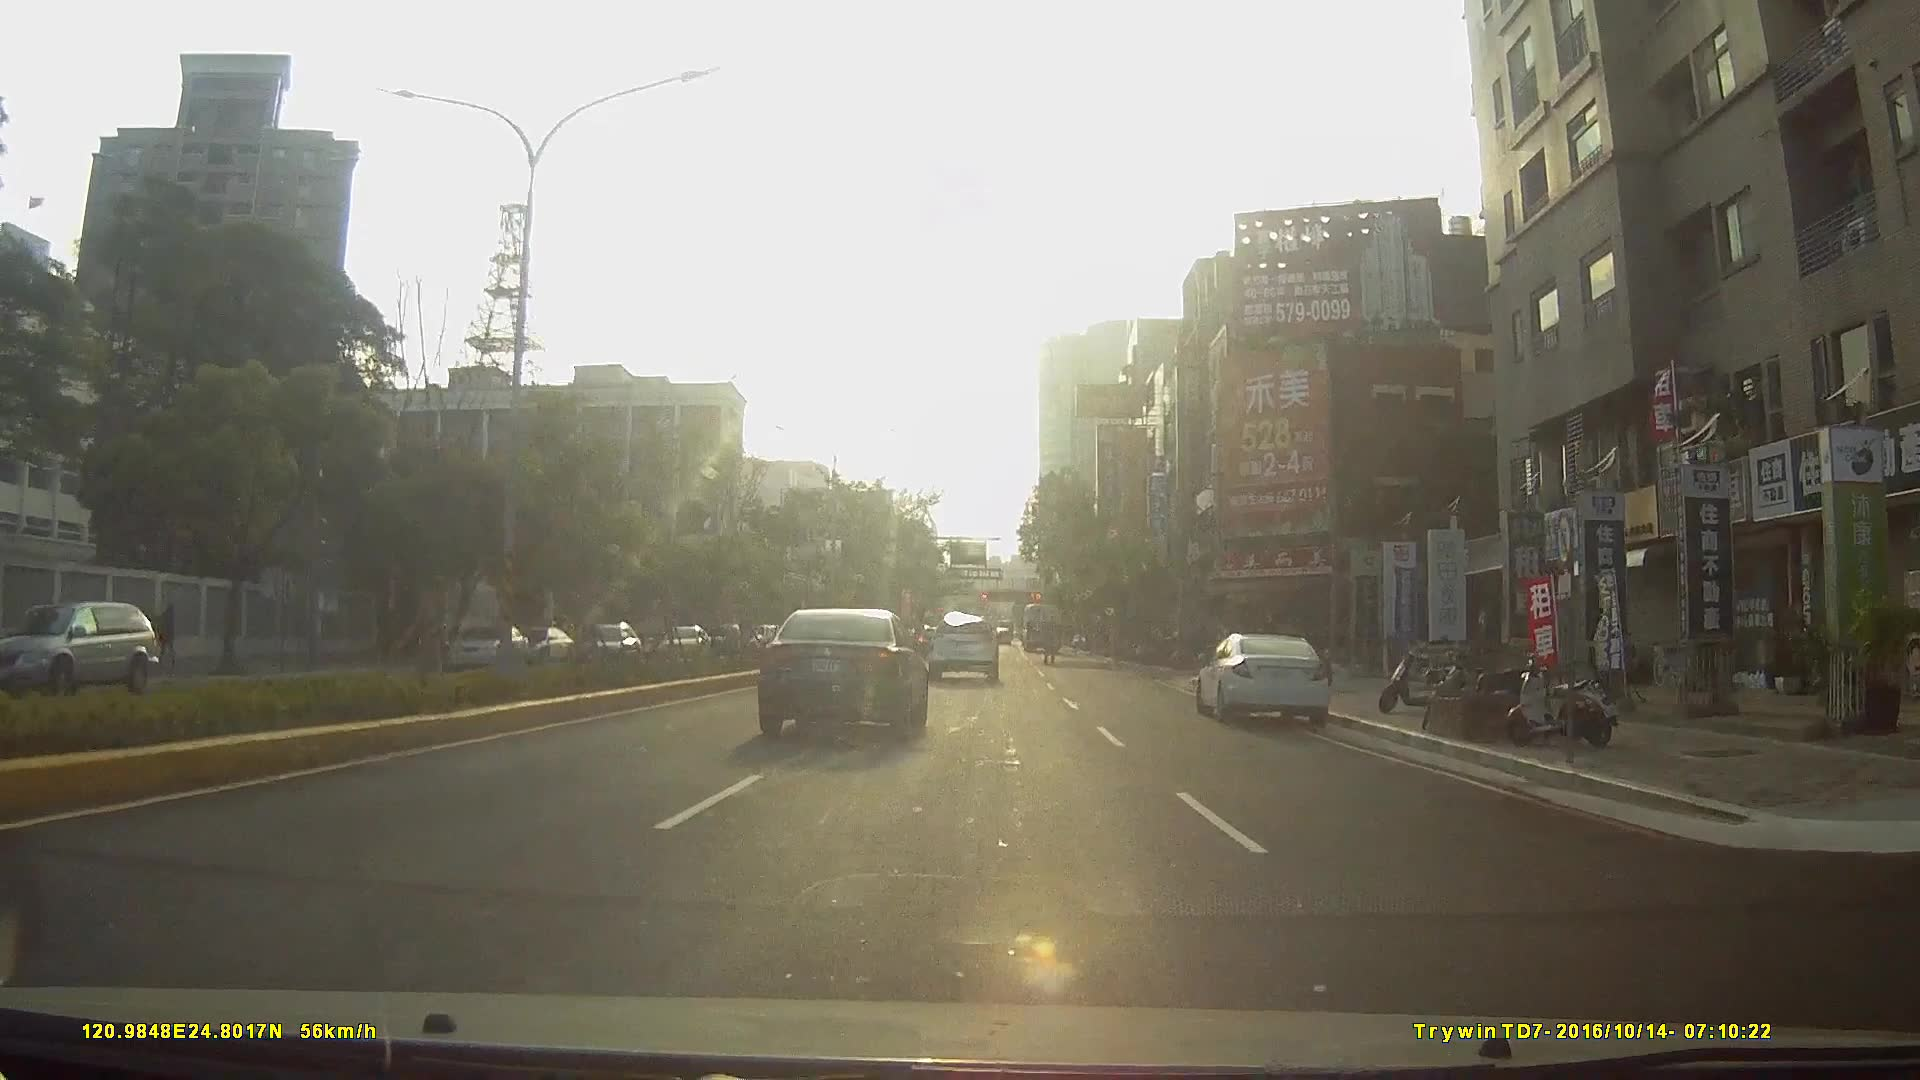pedestrian: (158, 604, 178, 664)
vehicle: (757, 605, 931, 740), (2, 604, 158, 706), (1196, 629, 1336, 727), (928, 611, 1000, 683), (440, 622, 526, 671), (577, 622, 650, 679), (649, 626, 715, 668), (1018, 598, 1066, 651), (513, 623, 575, 661)
